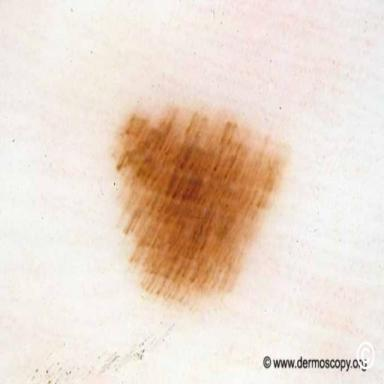Melanoma: (114, 99, 289, 306)
